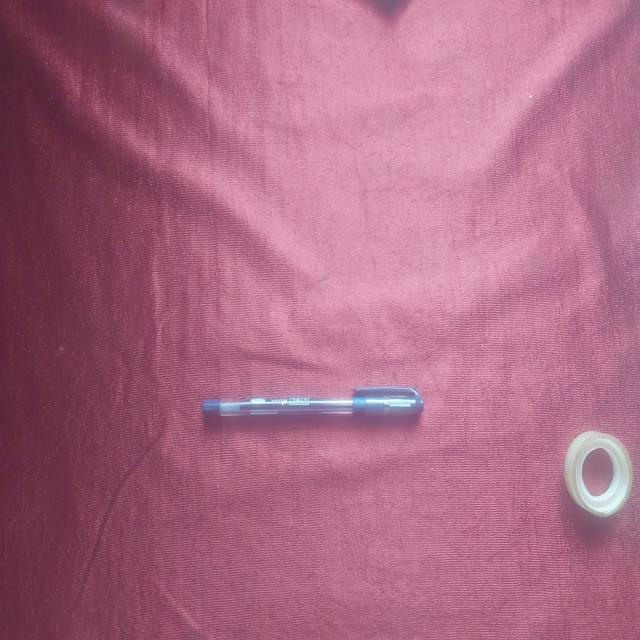pen: (199, 385, 436, 428)
